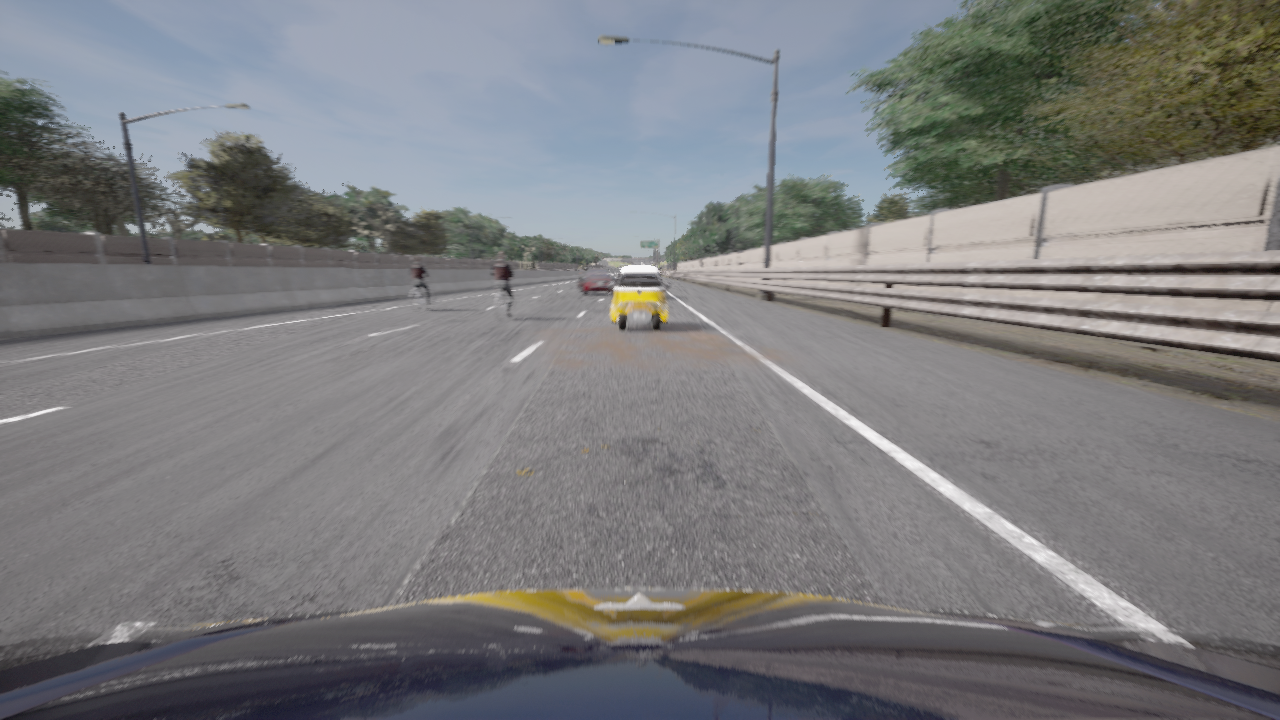cyclist: (0, 588, 1279, 719), (609, 266, 670, 330), (578, 270, 616, 294), (410, 277, 434, 311), (495, 281, 514, 320), (580, 273, 584, 277)
